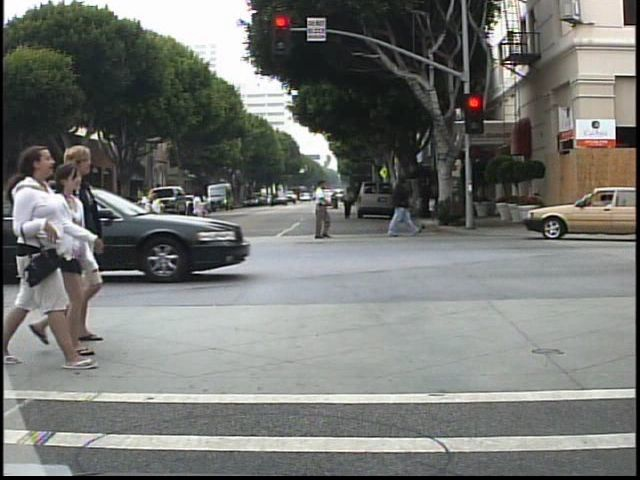person: (2, 144, 80, 375), (21, 163, 98, 365), (61, 145, 124, 349), (381, 167, 422, 240), (307, 176, 335, 240), (135, 188, 160, 251), (88, 188, 113, 246), (187, 187, 209, 245), (80, 183, 98, 247), (340, 184, 356, 220)
